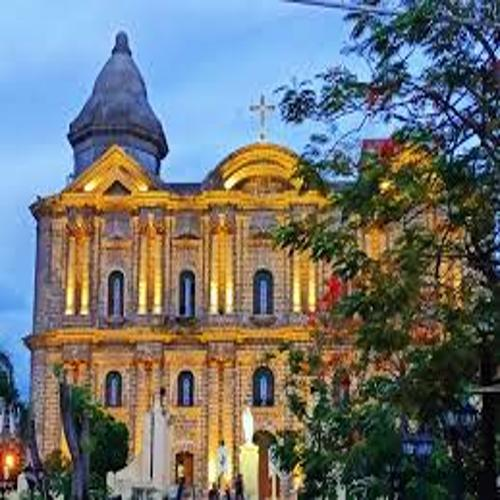Taal Basilica Church: (27, 16, 480, 497)
